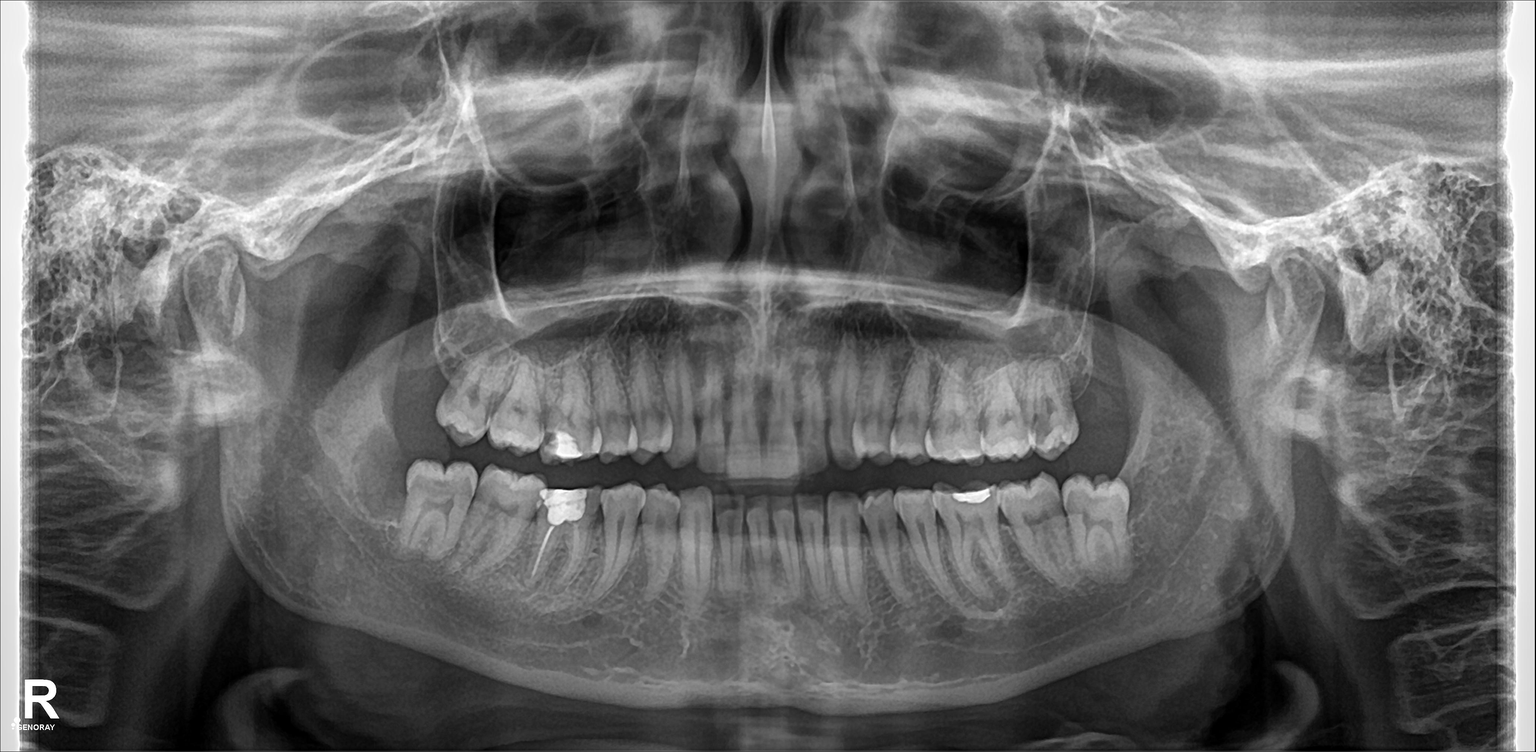Dental Caries: (544, 411, 599, 444)
Endodontically Treated Tooth: (544, 486, 591, 582)
Missing Tooth: (367, 441, 419, 556), (1065, 342, 1128, 436), (404, 329, 450, 416)
